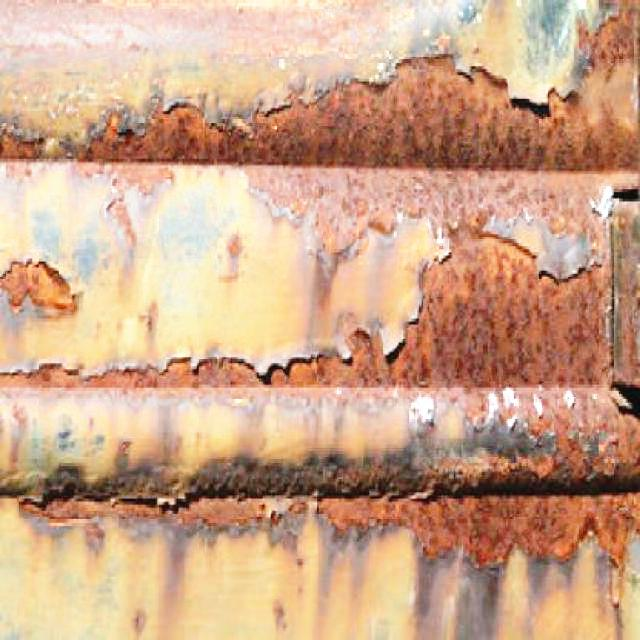Corrosion: (0, 202, 640, 566), (0, 12, 640, 267), (400, 240, 610, 386), (0, 260, 76, 316)
